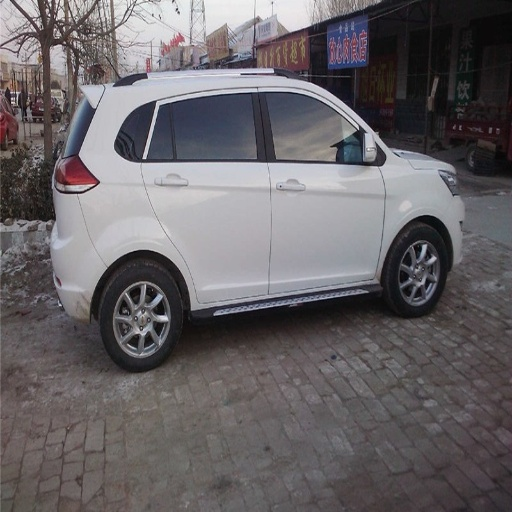back_right_door: (145, 81, 271, 303)
front_right_door: (261, 84, 385, 292)
